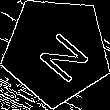N_NW: (25, 19, 88, 82)
